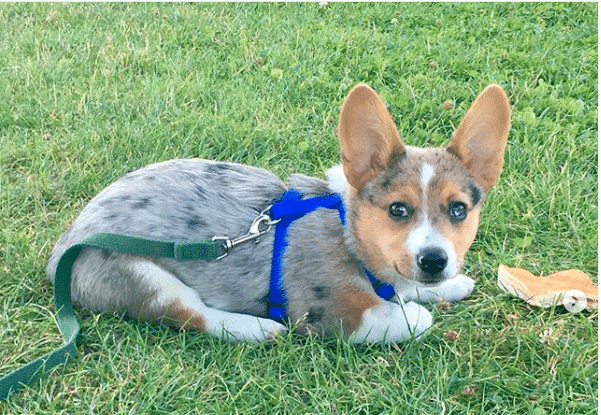corgi: (328, 78, 509, 304)
